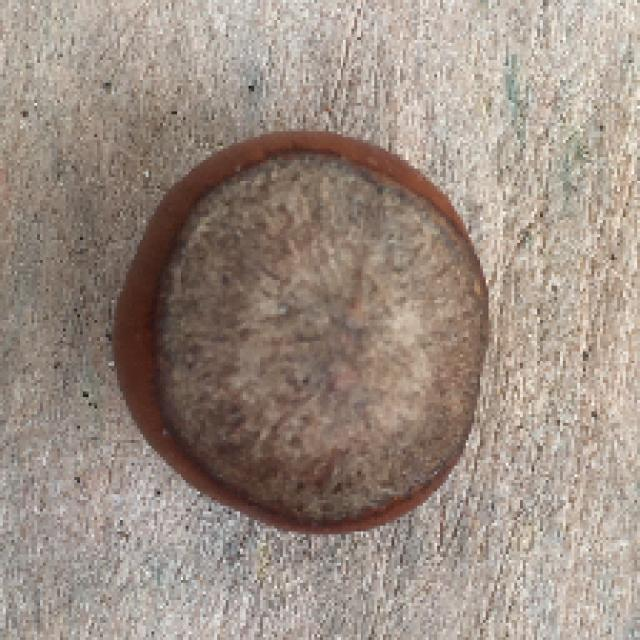QualityHazelnut: (114, 131, 493, 537)
